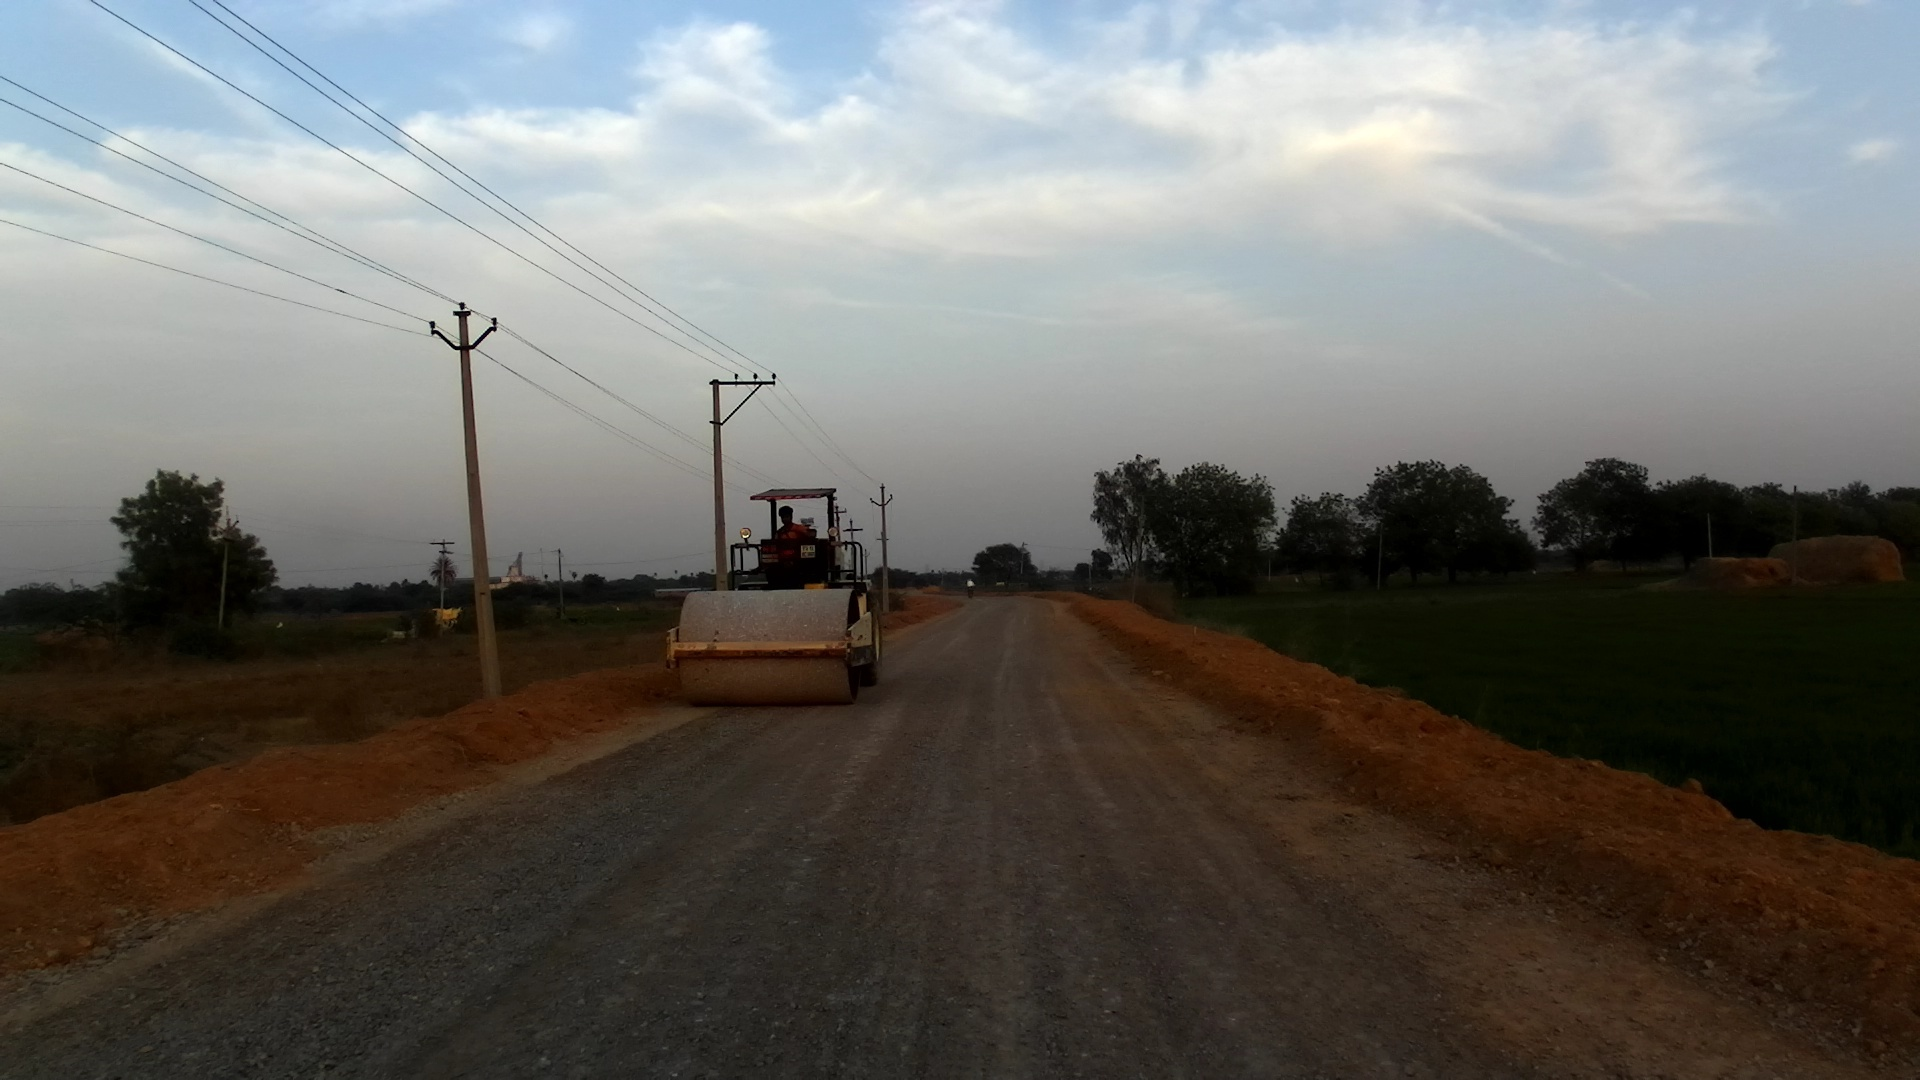person: (964, 572, 976, 604)
rider: (764, 501, 814, 559)
vehicle fallback: (657, 484, 884, 710)
